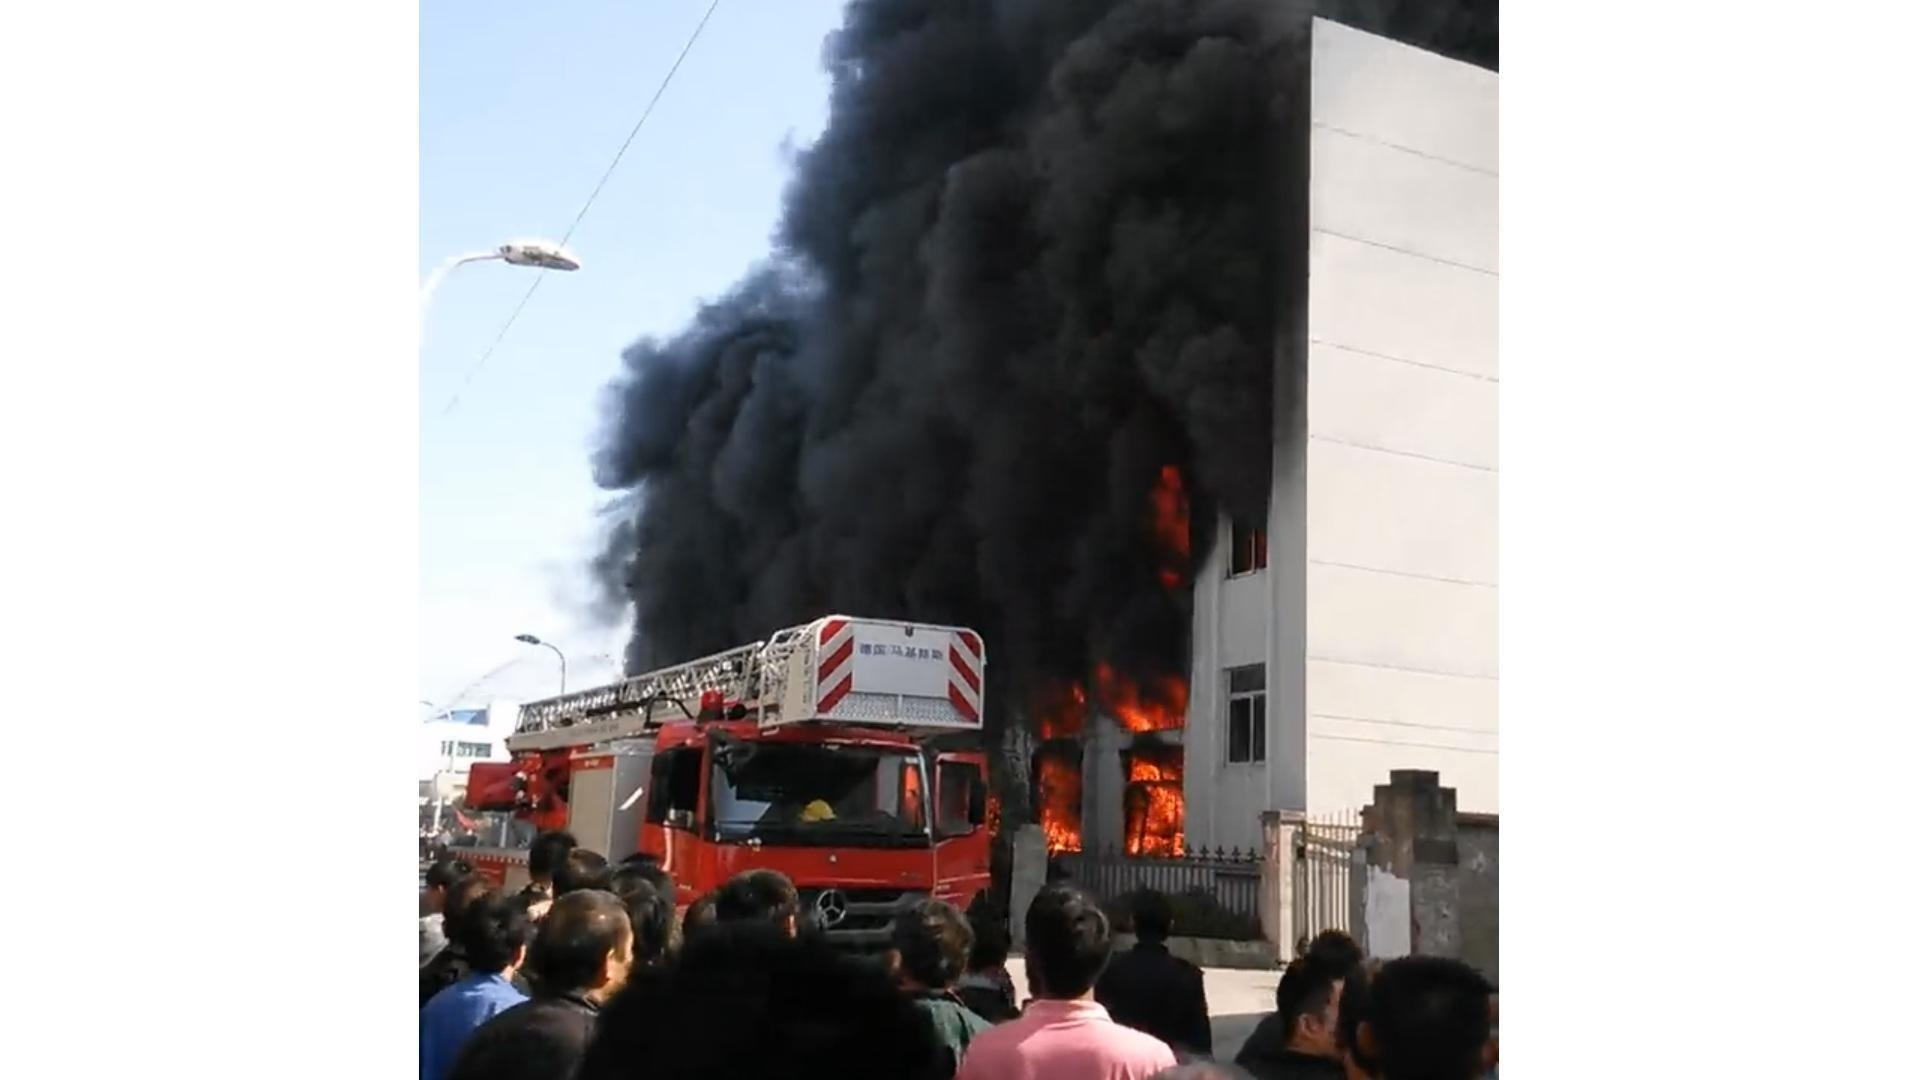fire: (1033, 673, 1192, 858)
